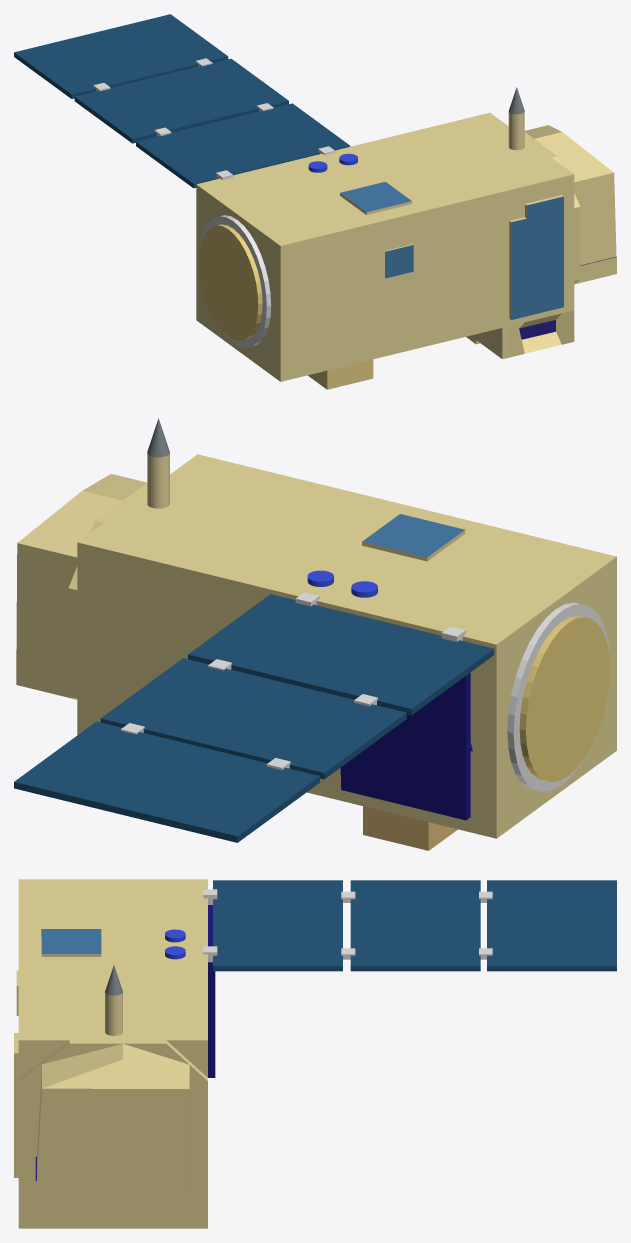
Rendered from satelite.glb.
3 renders of one model, top to bottom at view 1: azimuth 30°, elevation 25°; view 2: azimuth 150°, elevation 25°; view 3: azimuth 270°, elevation 25°, orthographic. The views are drawn at different scales.
Parts seen in each view (by area): view 1: Cubo, Cubo.004, Cubo.006, Cubo.005, Cilindro.004, Cilindro.003, Cubo.013, Cono; view 2: Cubo, Cubo.006, Cubo.005, Cubo.004, Cubo.003, Cilindro.004, Cilindro.003, Cubo.014, Cono; view 3: Cubo, Cubo.004, Cubo.006, Cubo.005, Cubo.003, Cono.
Part boxes in pixels (x1=…): Cubo: x1=196, y1=112, x2=616, y2=381; Cubo.004: x1=74, y1=58, x2=288, y2=143; Cubo.006: x1=14, y1=14, x2=228, y2=98; Cubo.005: x1=136, y1=103, x2=350, y2=188; Cilindro.004: x1=199, y1=224, x2=262, y2=340; Cilindro.003: x1=199, y1=215, x2=271, y2=347; Cubo.013: x1=308, y1=359, x2=373, y2=389; Cono: x1=508, y1=87, x2=524, y2=150; Cubo: x1=16, y1=454, x2=616, y2=838; Cubo.006: x1=14, y1=721, x2=319, y2=842; Cubo.005: x1=188, y1=594, x2=494, y2=715; Cubo.004: x1=100, y1=658, x2=406, y2=779; Cubo.003: x1=340, y1=672, x2=472, y2=820; Cilindro.004: x1=519, y1=615, x2=610, y2=781; Cilindro.003: x1=507, y1=602, x2=609, y2=791; Cubo.014: x1=363, y1=806, x2=457, y2=850; Cono: x1=147, y1=418, x2=169, y2=508; Cubo: x1=14, y1=879, x2=207, y2=1228; Cubo.004: x1=350, y1=880, x2=480, y2=971; Cubo.006: x1=487, y1=880, x2=616, y2=971; Cubo.005: x1=213, y1=880, x2=342, y2=971; Cubo.003: x1=208, y1=905, x2=215, y2=1077; Cono: x1=105, y1=965, x2=122, y2=1035.
Size of the model in its own units: 6.45 by 4.05 by 8.5.
